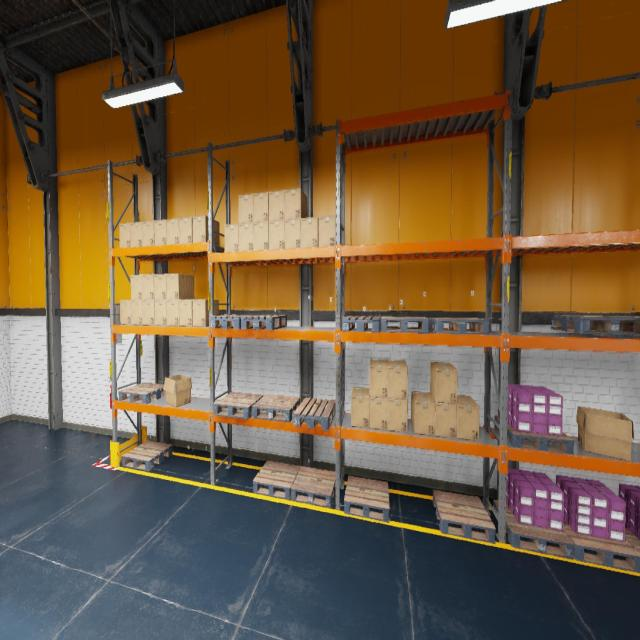box: (577, 406, 634, 461), (430, 393, 456, 438), (430, 362, 457, 404), (411, 391, 435, 436), (456, 395, 479, 441), (163, 374, 192, 406), (192, 215, 220, 246), (388, 360, 408, 399), (351, 386, 369, 428), (192, 299, 219, 327), (369, 359, 388, 398), (166, 273, 194, 299), (285, 188, 307, 219), (388, 398, 407, 433), (369, 396, 388, 431), (318, 215, 336, 247), (301, 216, 318, 248), (253, 192, 269, 222), (284, 219, 300, 248), (253, 221, 269, 250), (269, 190, 284, 220), (269, 220, 284, 249), (224, 223, 239, 252), (239, 194, 253, 224), (239, 223, 253, 251), (179, 299, 192, 326), (179, 216, 192, 243), (166, 218, 179, 244), (166, 300, 179, 325), (154, 300, 167, 325), (154, 219, 166, 245), (142, 220, 154, 246), (142, 300, 154, 325), (154, 274, 166, 299), (142, 274, 154, 299), (119, 222, 131, 247), (131, 274, 142, 300), (131, 300, 142, 325), (120, 299, 131, 324), (131, 222, 142, 246)
pallets: (493, 500, 573, 560), (563, 520, 640, 573), (432, 489, 496, 544), (494, 415, 574, 454), (344, 475, 389, 522), (253, 460, 300, 500), (291, 466, 335, 508), (550, 314, 640, 334), (122, 440, 172, 471), (293, 397, 335, 430), (214, 392, 264, 419), (252, 394, 300, 422), (118, 382, 166, 404), (429, 317, 489, 334), (380, 316, 430, 333), (241, 314, 287, 330), (210, 315, 257, 329), (342, 316, 381, 332), (610, 316, 640, 332), (624, 527, 640, 552)
